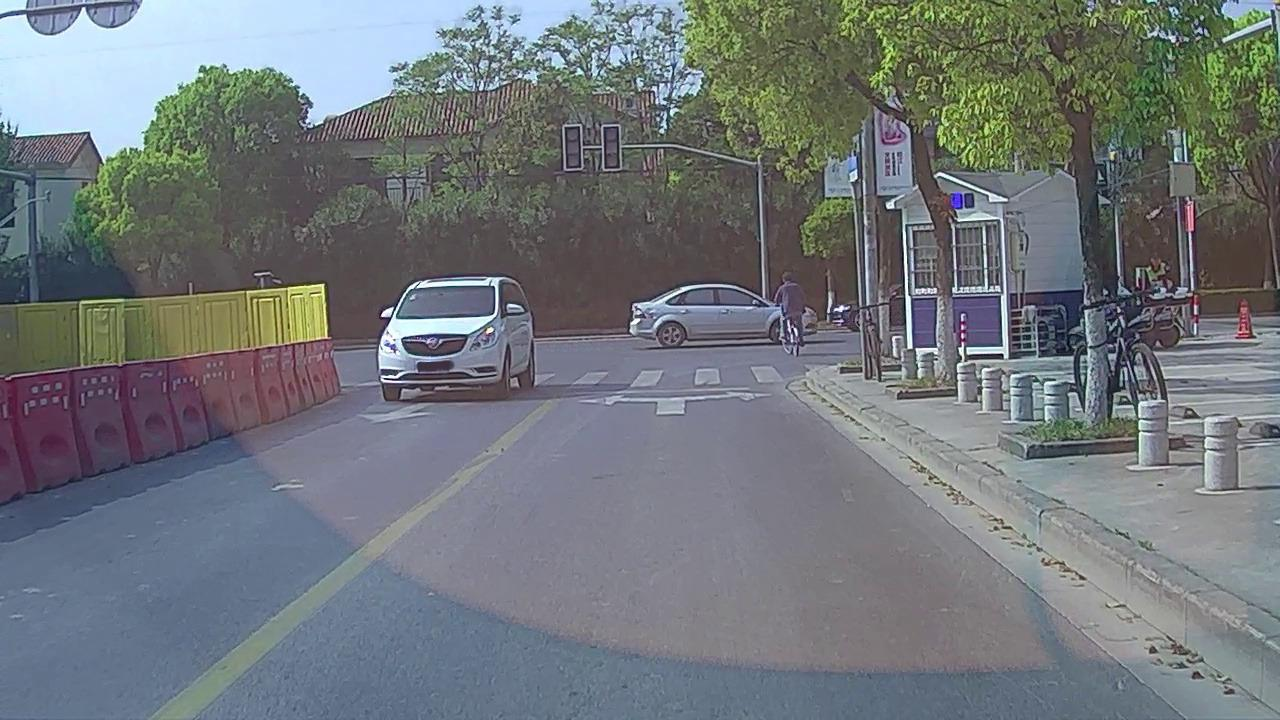traffic_light: (603, 125, 620, 169), (564, 126, 581, 169)
